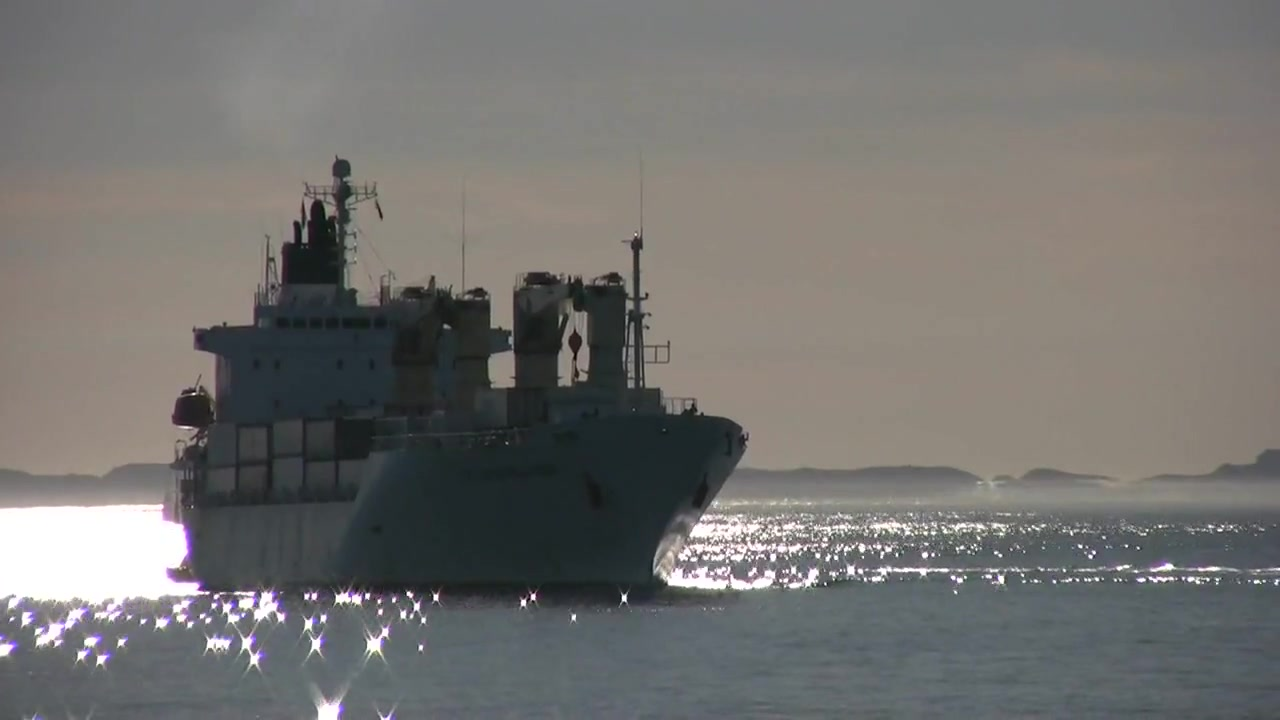boat: (157, 155, 755, 601)
